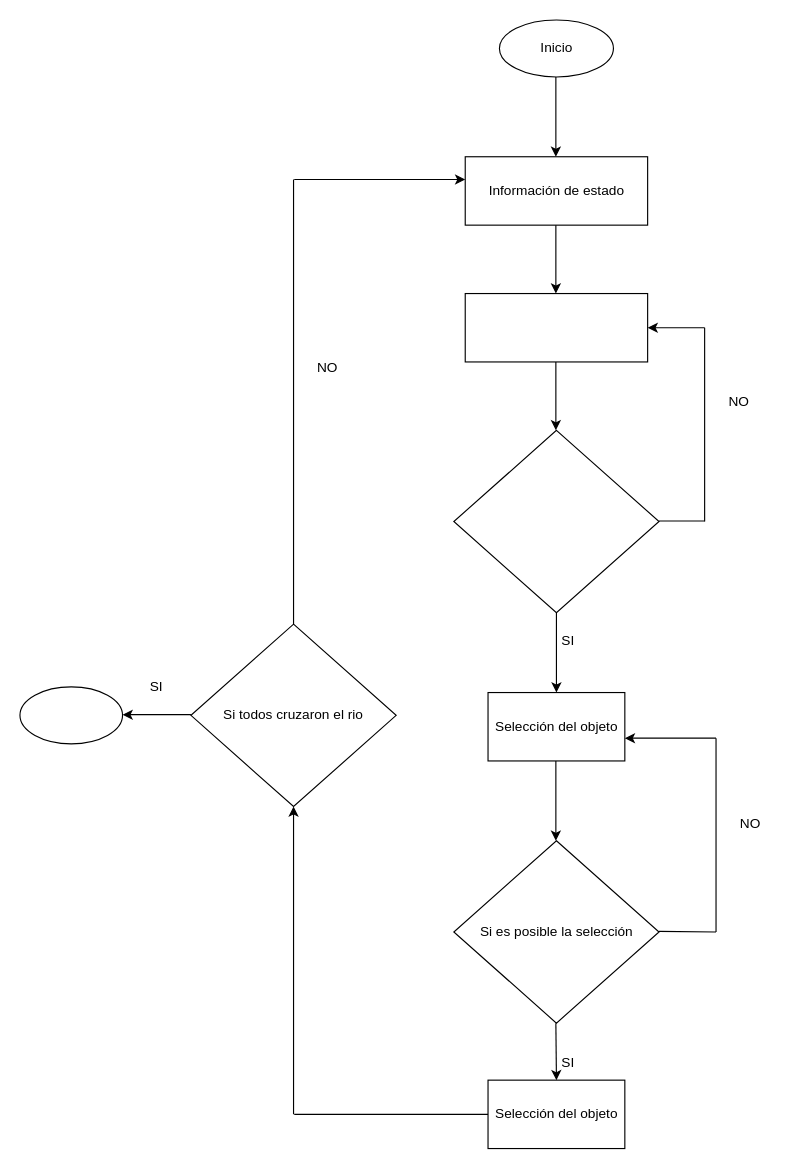
Image size: 805x1169. Some labels were removed from this diagram. The shapes that lost their labels are listed below. From the top down, each one's centre as x and y in pixels, then its label:
(556,327): Selección de viaje
(556,521): Puede viajar solo
(71,715): Fin
